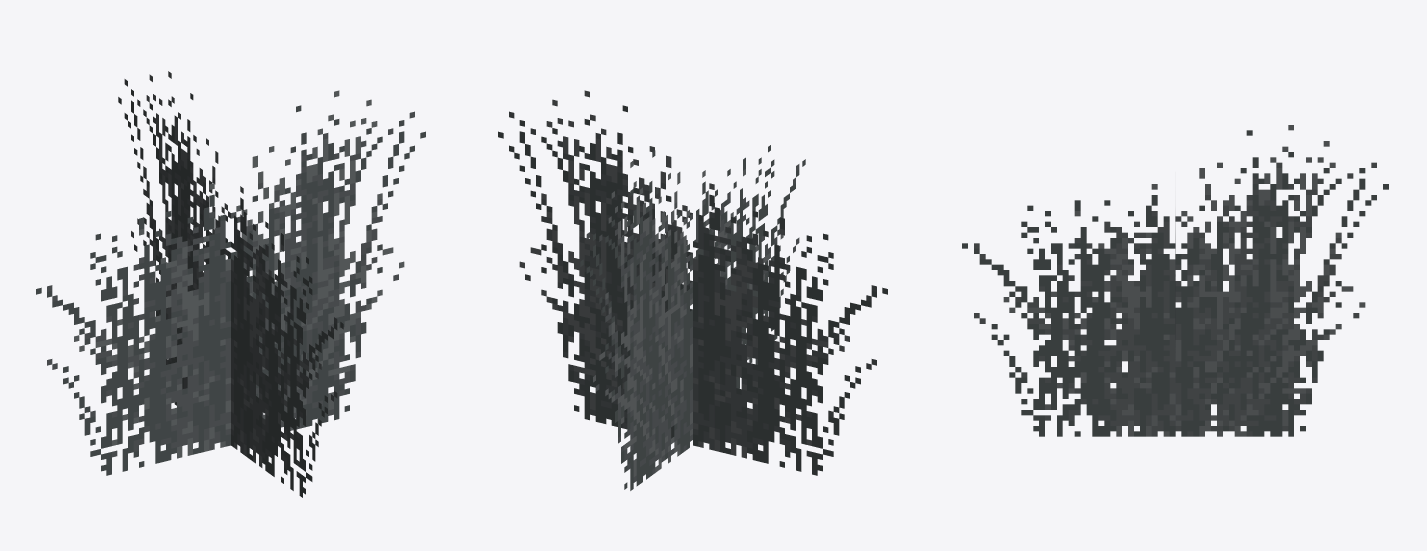
Rendered from foliage_1.glb.
3 views of the same model, side by side, from view 1: azimuth 30°, elevation 25°; view 2: azimuth 150°, elevation 25°; view 3: azimuth 270°, elevation 25° (orthographic). The views are drawn at different scales.
Visible parts, largest first — view 1: grass2; view 2: grass2; view 3: grass2.
Boxes of the visible parts, x1,y1,x2,y2 form: grass2: (36, 71, 425, 497); grass2: (498, 90, 887, 490); grass2: (962, 125, 1388, 436).
Size of the model in its own units: 1.33 by 1 by 1.33.
1 material, 1 textured.
